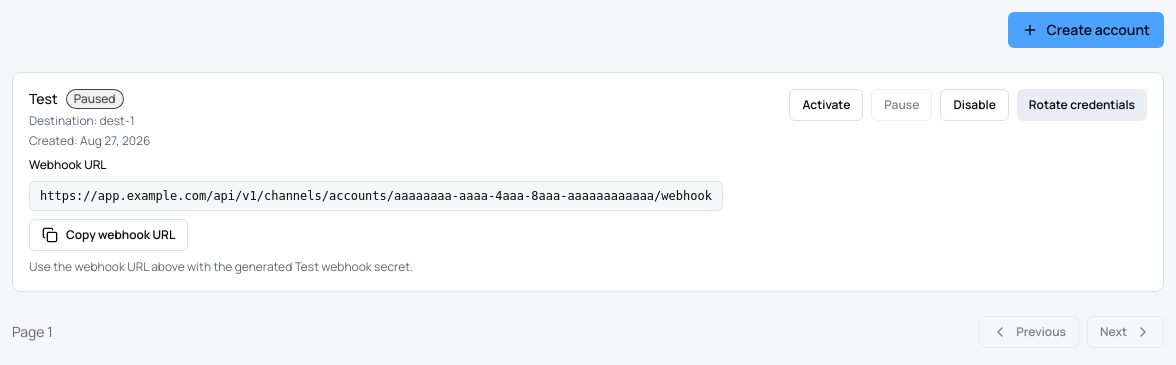
it: ChannelAccountsClient › disables status controls while a status mutation is pending
The image size is (1176, 365).
Click the button "Activate" at coordinates (826, 105), box x1=790 y1=89 x2=863 y2=121
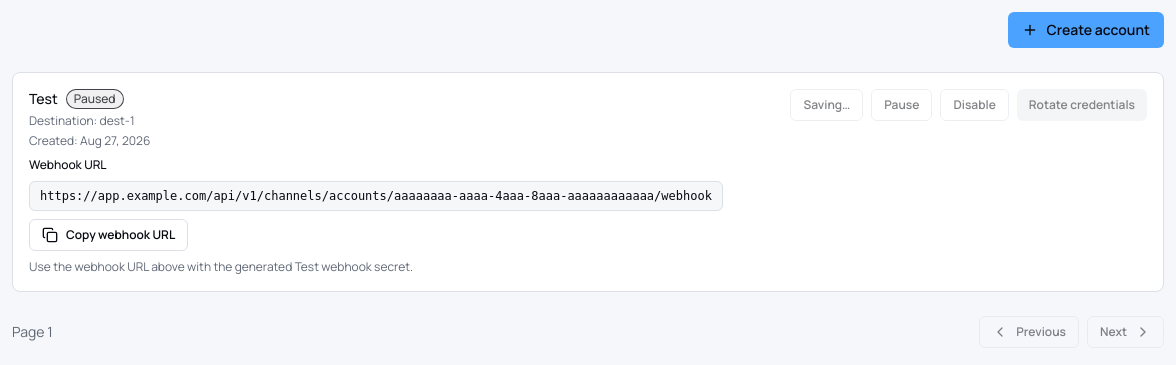
expect the button "Pause" is disabled: met, box x1=871 y1=89 x2=932 y2=121
expect the button "Saving…" is disabled: met
expect the button "Disable" is disabled: met, box x1=940 y1=89 x2=1009 y2=121
Click the button "Saving…" at coordinates (827, 105), box x1=790 y1=89 x2=863 y2=121
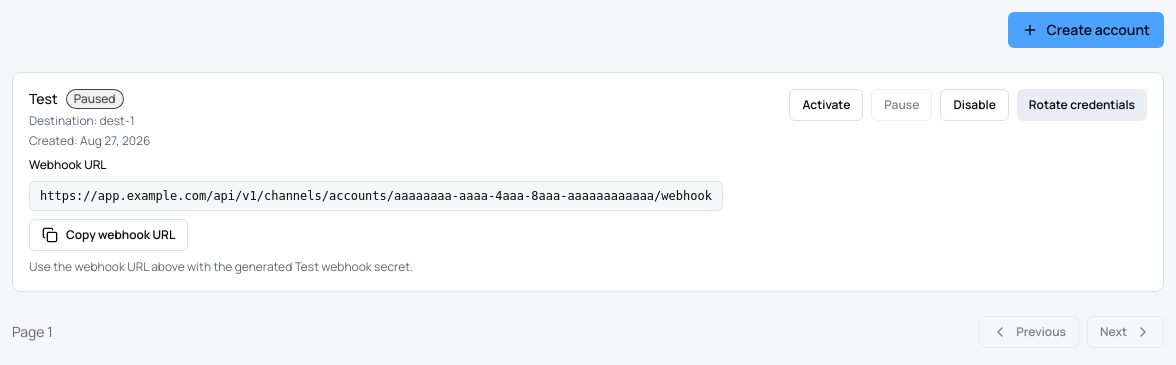
expect the button "Saving…" is gone: met
